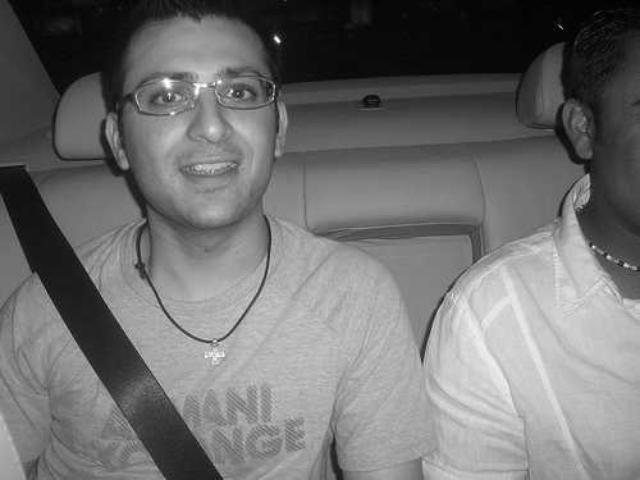SafeDriving: (141, 78, 194, 114), (213, 75, 266, 109)
Seatbelt: (0, 162, 232, 480)
